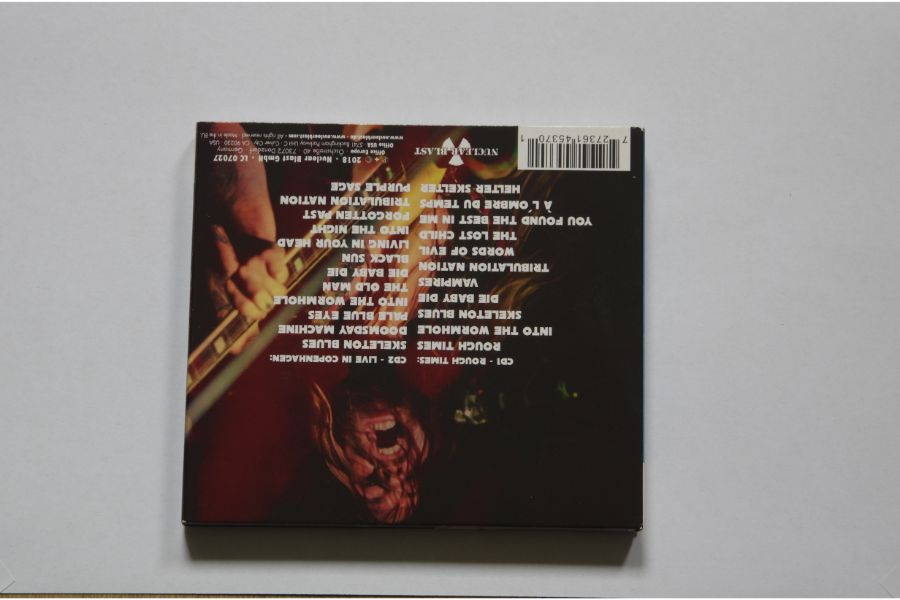album: (180, 121, 645, 532)
